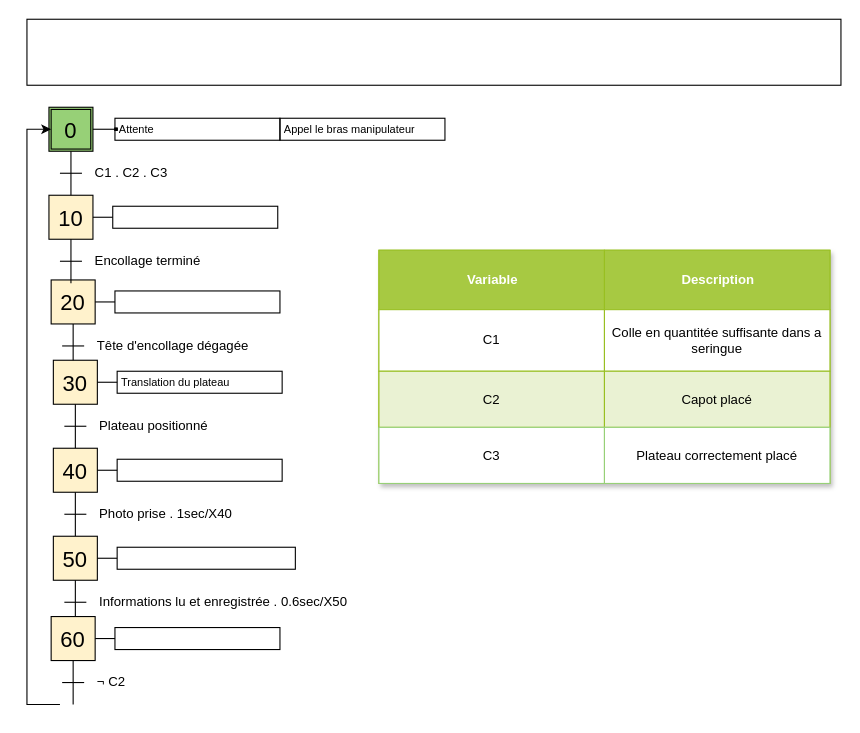
Some shapes in this 860 by 733 pixel diagram are drawn without their labels. The centre of each missing label's shape, as x and y in pixels:
Appeler le bras manipulateur: the point at 197,638
Dégager la tête de l'encollage: the point at 197,301
Encoller le capot: the point at 195,216
Graphcet de l'encolleuse: the point at 433,51
Lecture/Ecriture sur le badge RFID: the point at 205,557
Prendre le capot en photo: the point at 199,469
